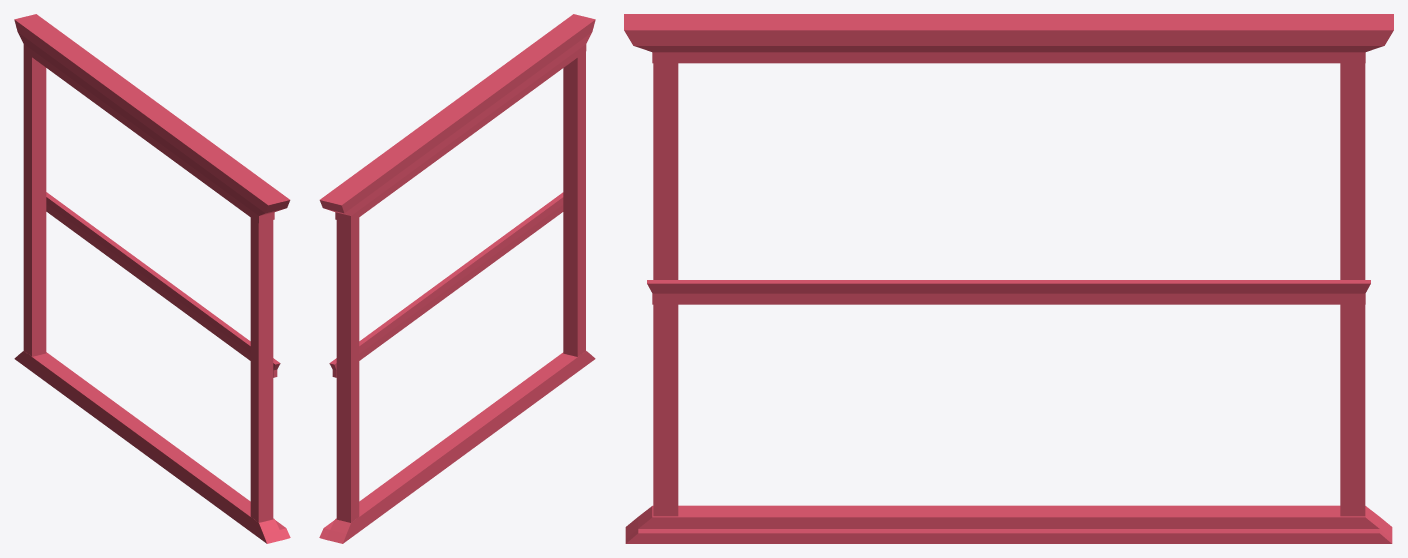
The model's file is window EMPTY.fbx.
3 renders of one model, left to right at view 1: azimuth 30°, elevation 25°; view 2: azimuth 150°, elevation 25°; view 3: azimuth 270°, elevation 25°, orthographic. The views are drawn at different scales.
Parts seen in each view (by area): view 1: window; view 2: window; view 3: window.
Part boxes in pixels (left/top/right/bottom): window: left=14, top=14, right=290, bottom=543; window: left=319, top=14, right=595, bottom=543; window: left=624, top=14, right=1393, bottom=543.
Size of the model in its own units: 21.86 by 300 by 408.
